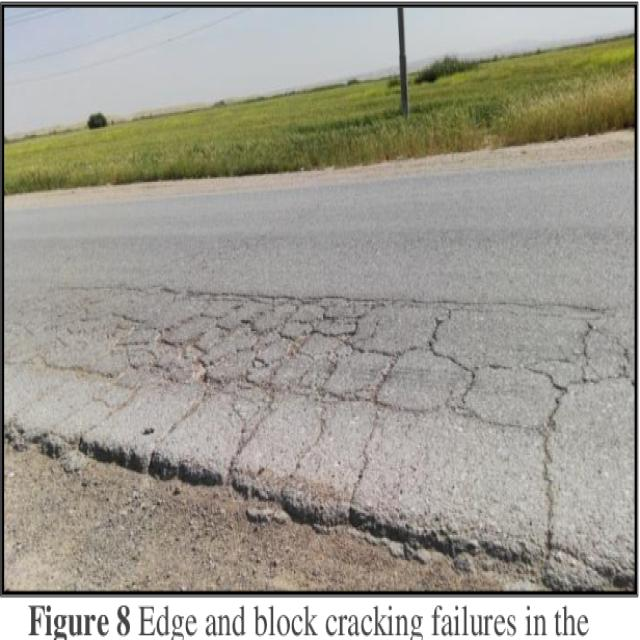Pothole: (0, 238, 635, 589)
